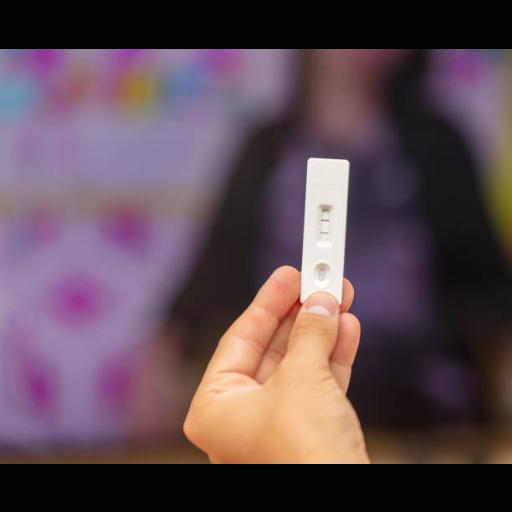Pos: (300, 158, 351, 309)
